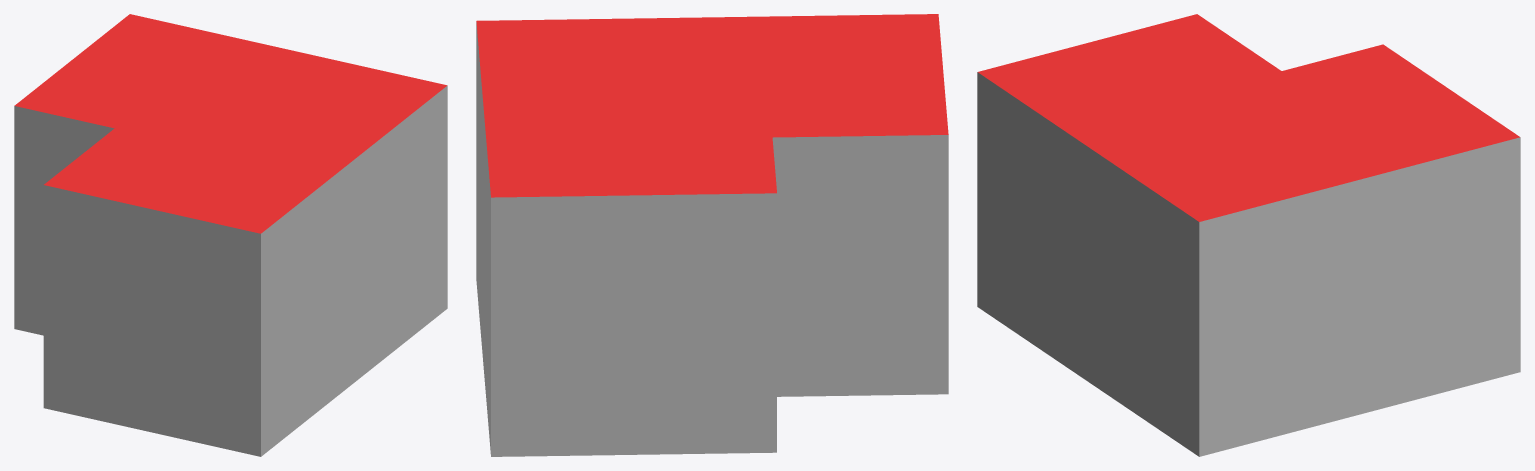
The picture shows the model from 3 angles, left to right: view 1: azimuth 30°, elevation 25°; view 2: azimuth 150°, elevation 25°; view 3: azimuth 270°, elevation 25°; orthographic projection. The views are drawn at different scales.
Bounding box in the file's own units: 24.7 × 27.24 × 13.
